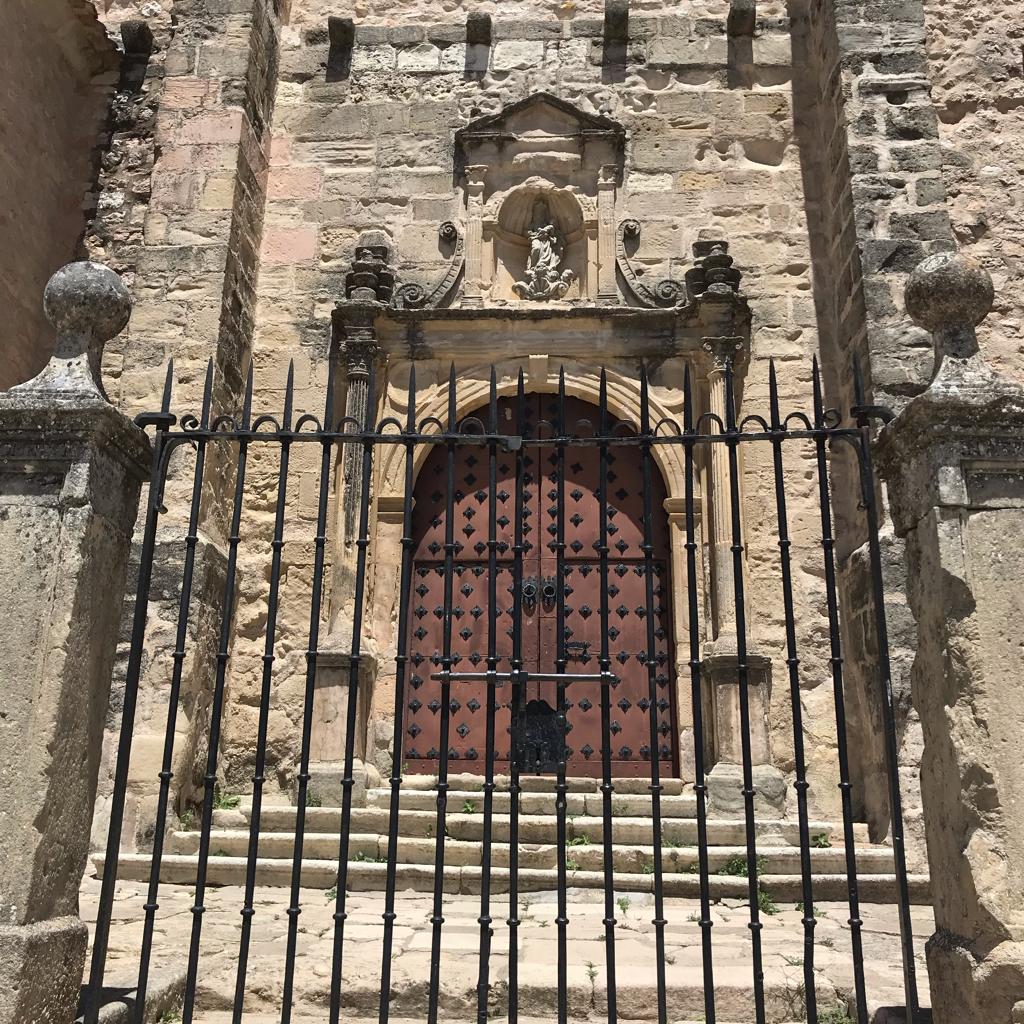arco-medio-punto: (393, 373, 692, 545)
fronton: (456, 90, 623, 150)
